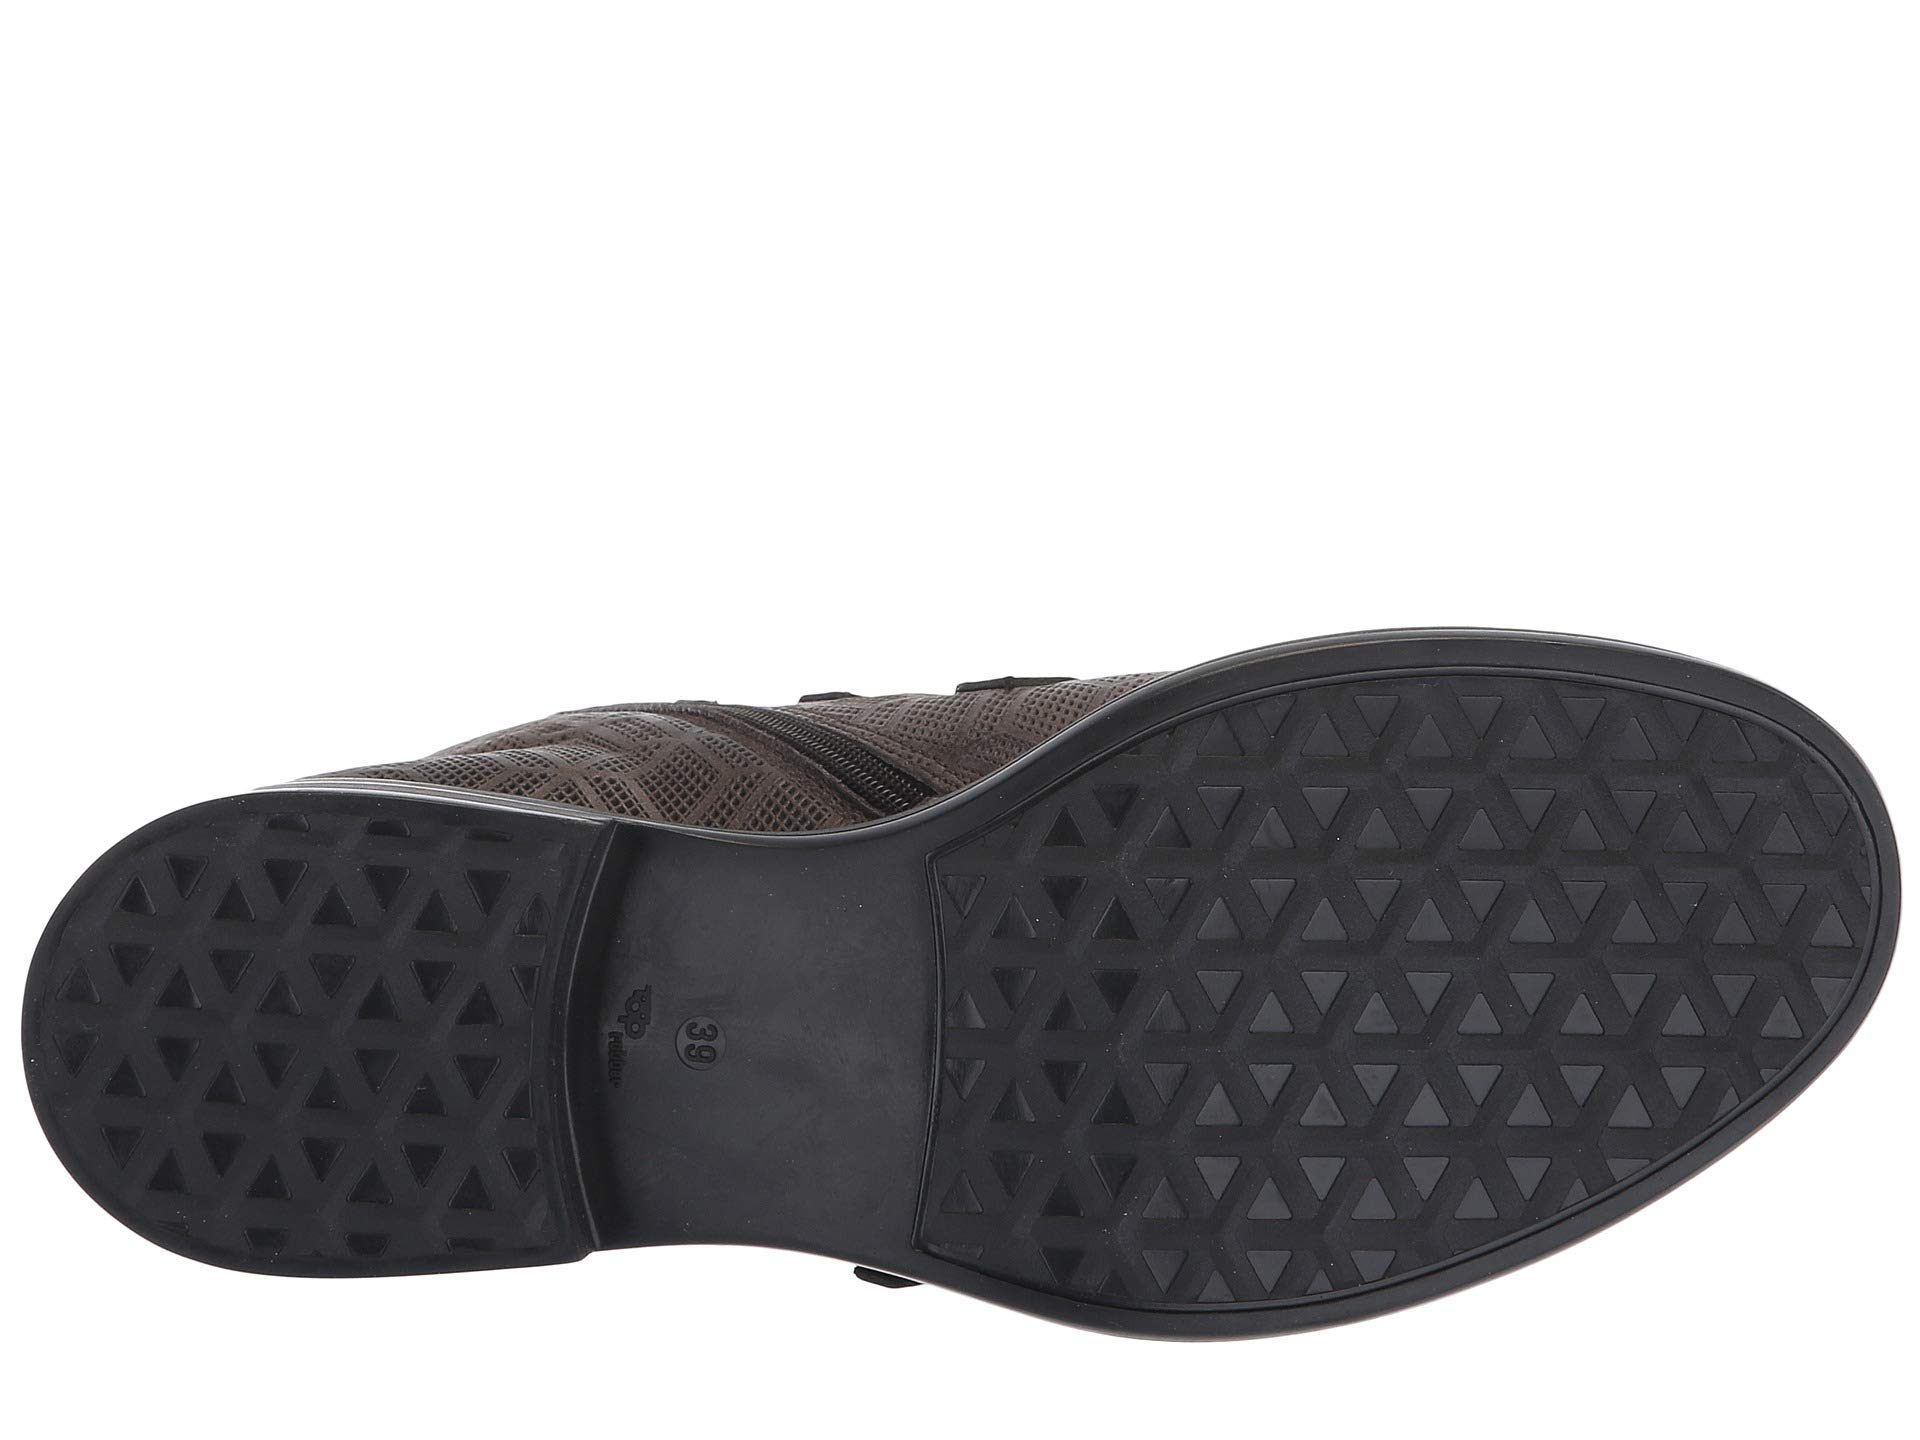circle: (656, 997, 751, 1100)
polygon: (115, 865, 496, 1266)
text: (656, 997, 751, 1100)
triangle: (1119, 802, 1553, 1224), (115, 865, 496, 1266), (1562, 759, 1755, 948), (1565, 967, 1748, 1147)
